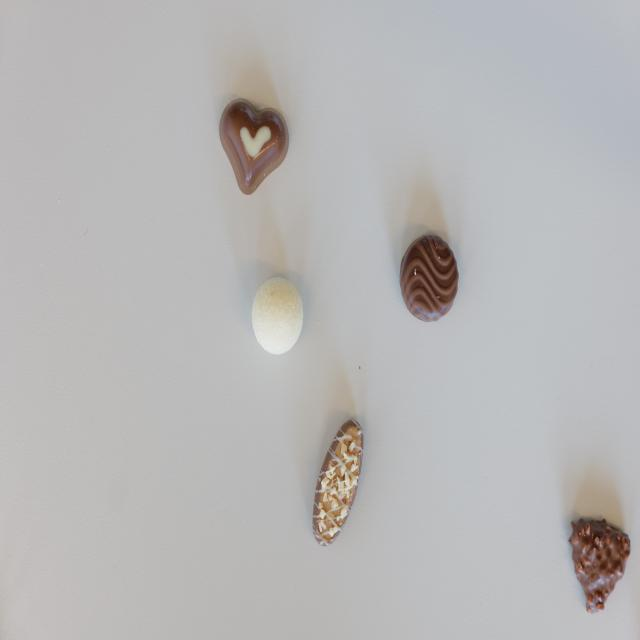Amandina: (311, 419, 364, 546)
Comtesse: (252, 278, 304, 356)
Noir_authentique: (400, 235, 460, 322)
Passion_au_lait: (219, 98, 290, 195)
Triangolo: (569, 517, 630, 615)
